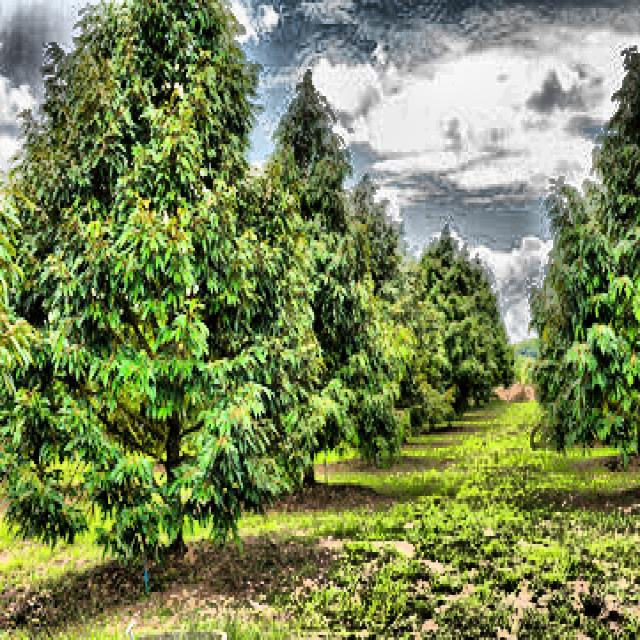arvore: (145, 290, 197, 582)
